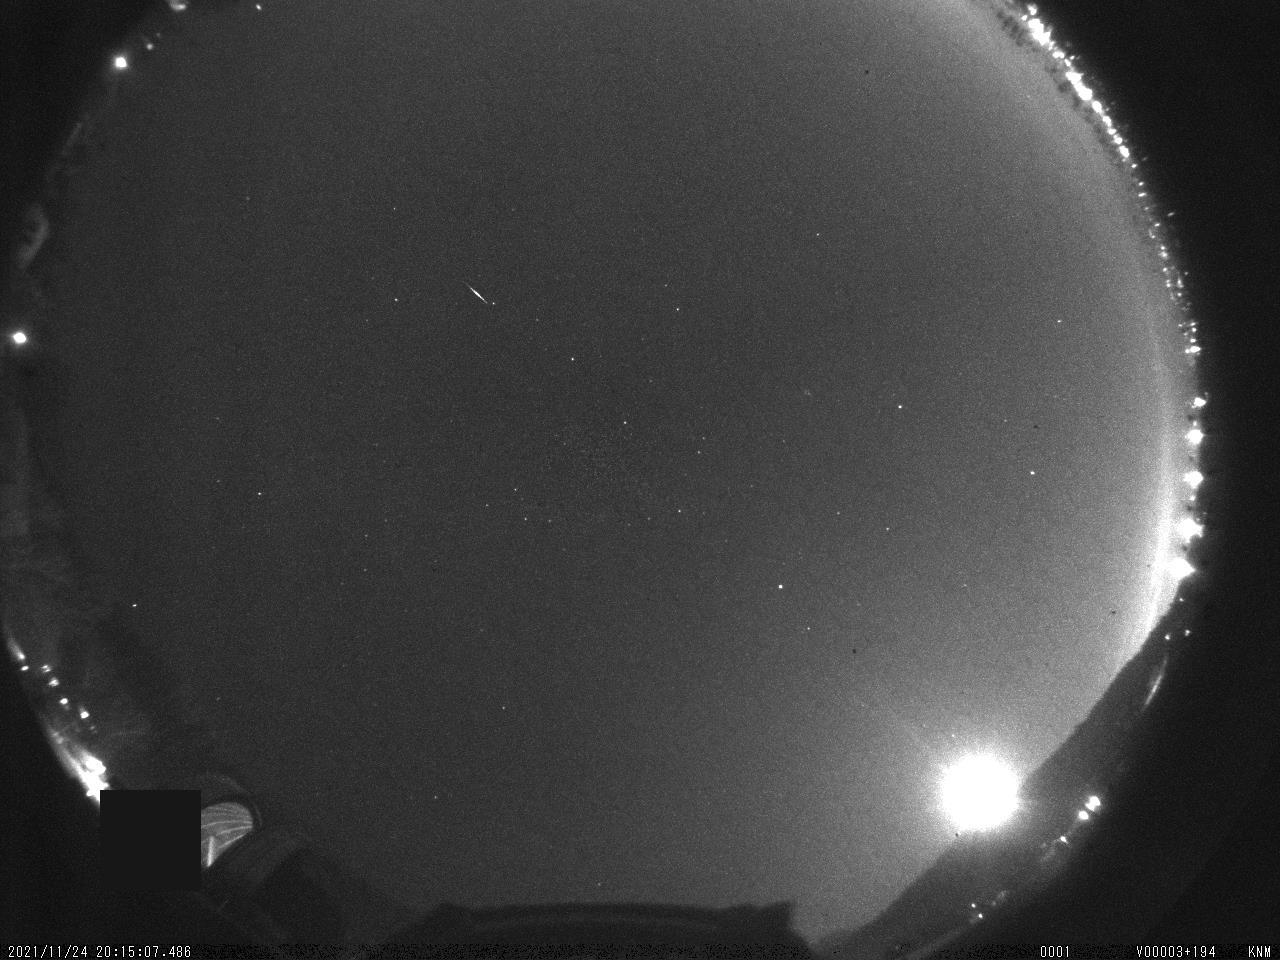meteor: (456, 273, 492, 309)
